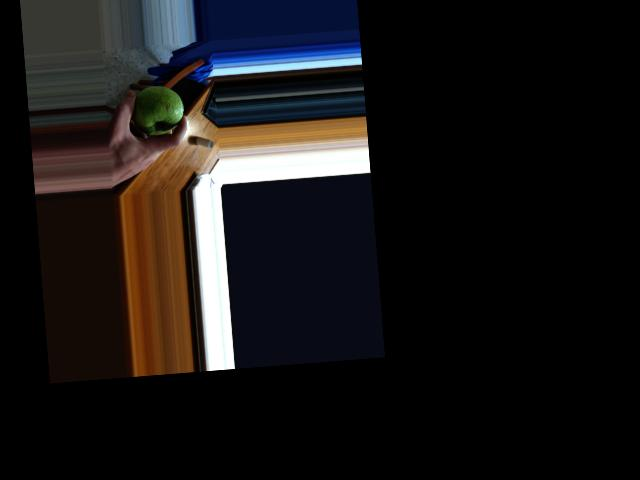apple: (128, 83, 187, 137)
